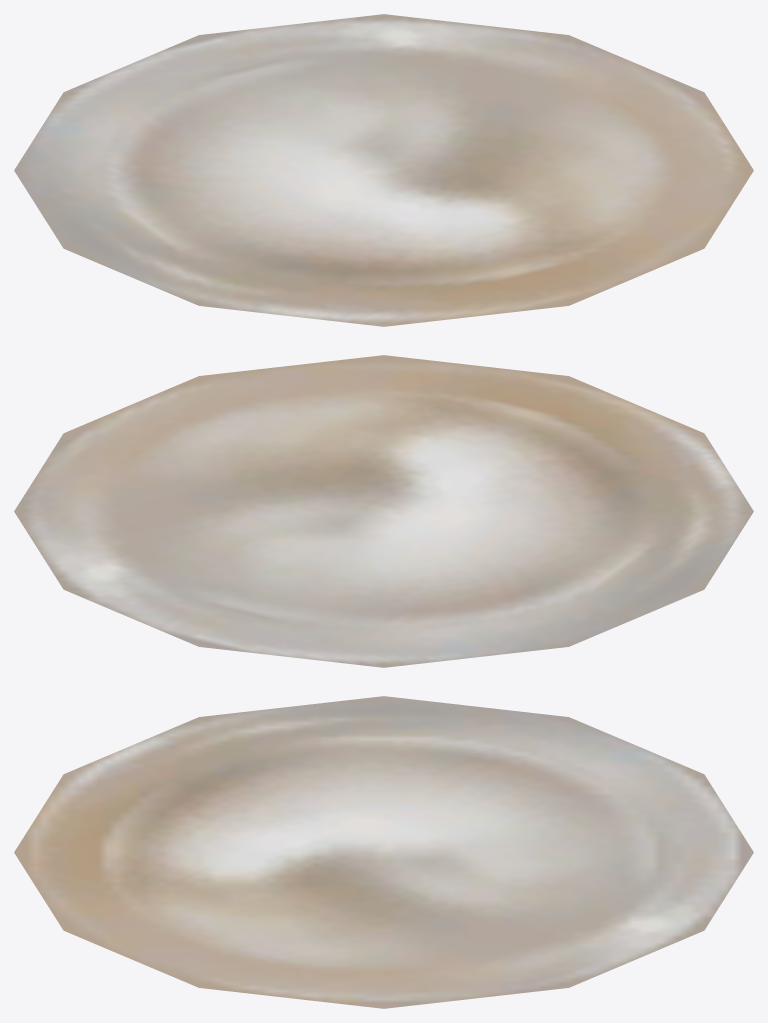
Rendered from plate.fbx.
3 views of the same model, one above another, from view 1: azimuth 30°, elevation 25°; view 2: azimuth 150°, elevation 25°; view 3: azimuth 270°, elevation 25° (orthographic).
Parts seen in each view (by area): view 1: mesh_0; view 2: mesh_0; view 3: mesh_0.
Boxes of the visible parts, x1=… form: mesh_0: x1=14, y1=14, x2=753, y2=326; mesh_0: x1=14, y1=355, x2=753, y2=667; mesh_0: x1=14, y1=696, x2=753, y2=1008.
Size of the model in its own units: 36.83 by 2.66 by 36.83.
Materials: 1 (1 with a texture image).
